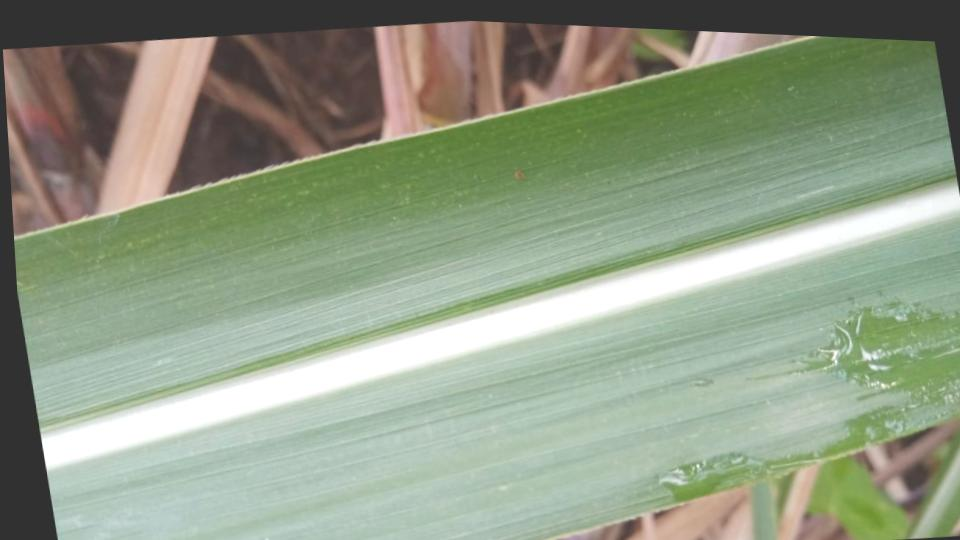Healthy: (14, 36, 960, 540)
